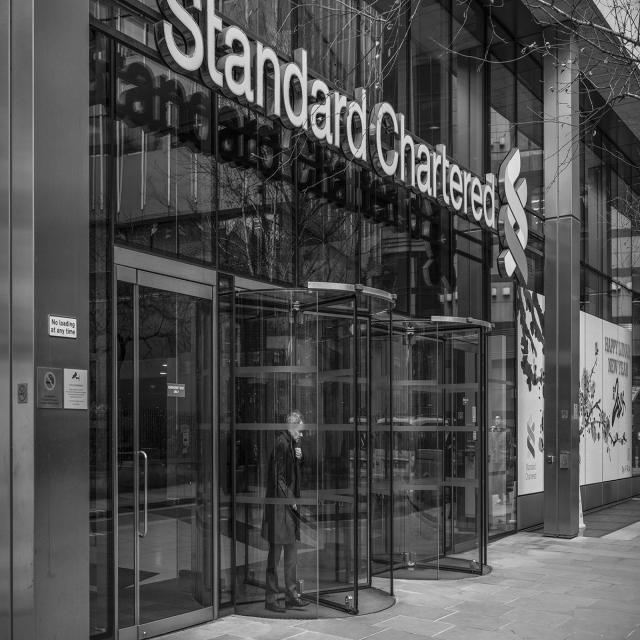Standard Chartered: (155, 0, 530, 286)
